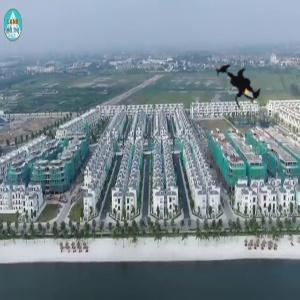drone: (197, 47, 276, 126)
